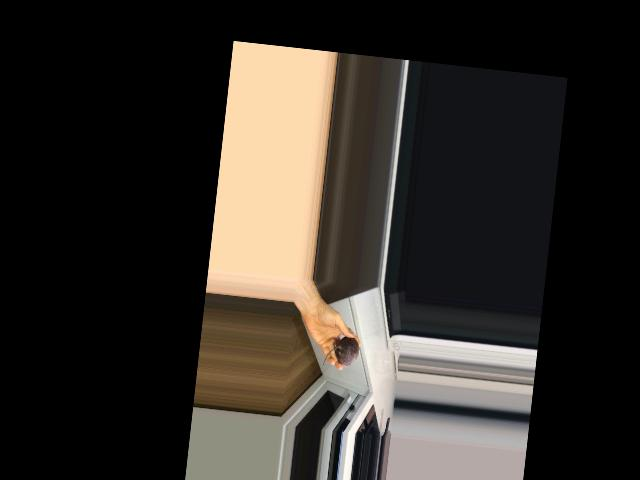beet: (322, 334, 360, 370)
